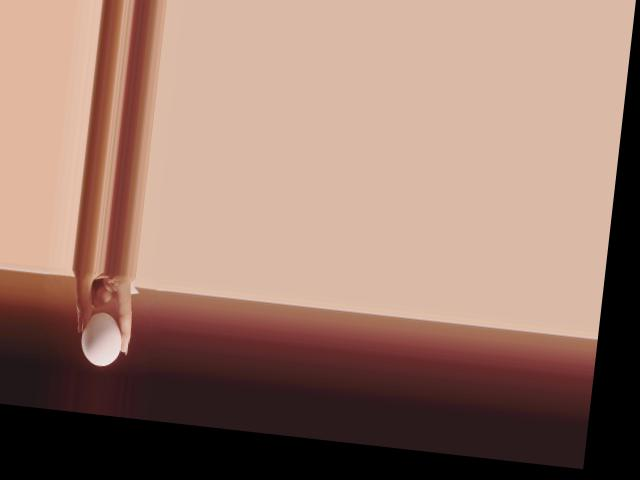egg: (77, 309, 124, 367)
